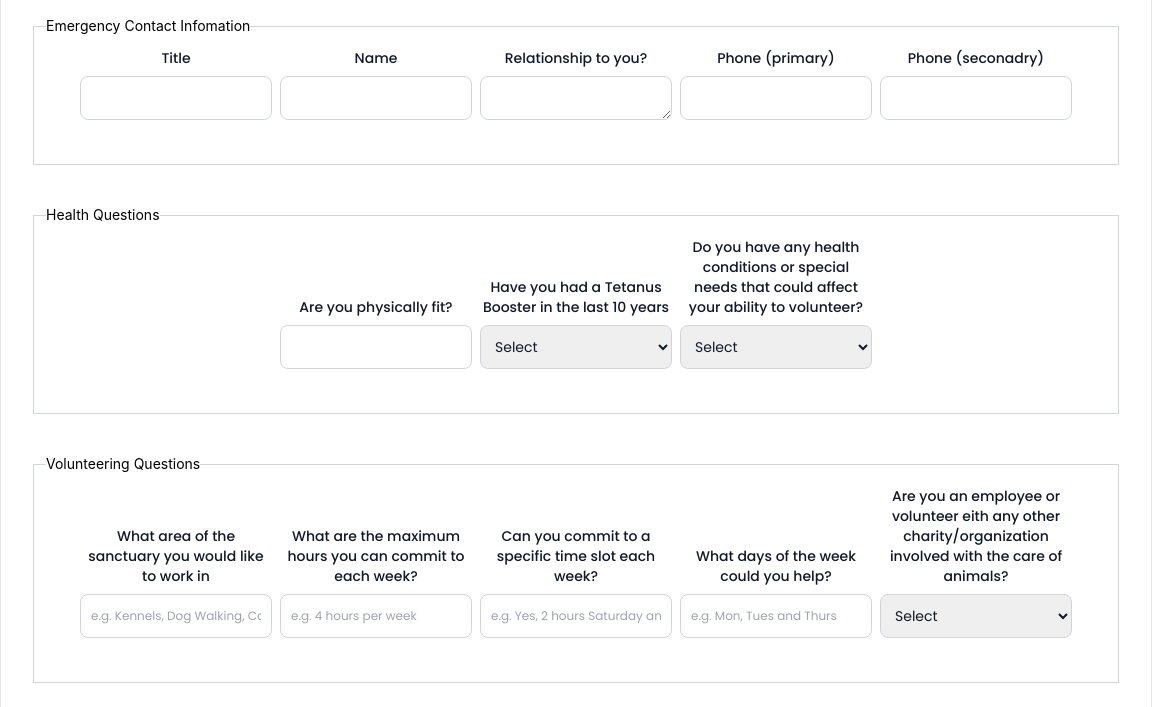
Test case: Volunteer Form › exposes correct fields on selecting specific values
(page scrolled)
Expected: the text "Please briefly state the convictions:" is not shown
^ Select:
Select "Yes" in the 2nd dropdown named "healthInfo.healthConditionSpecialNeeds": {"x": 776, "y": 347} 680,325 -> 872,369
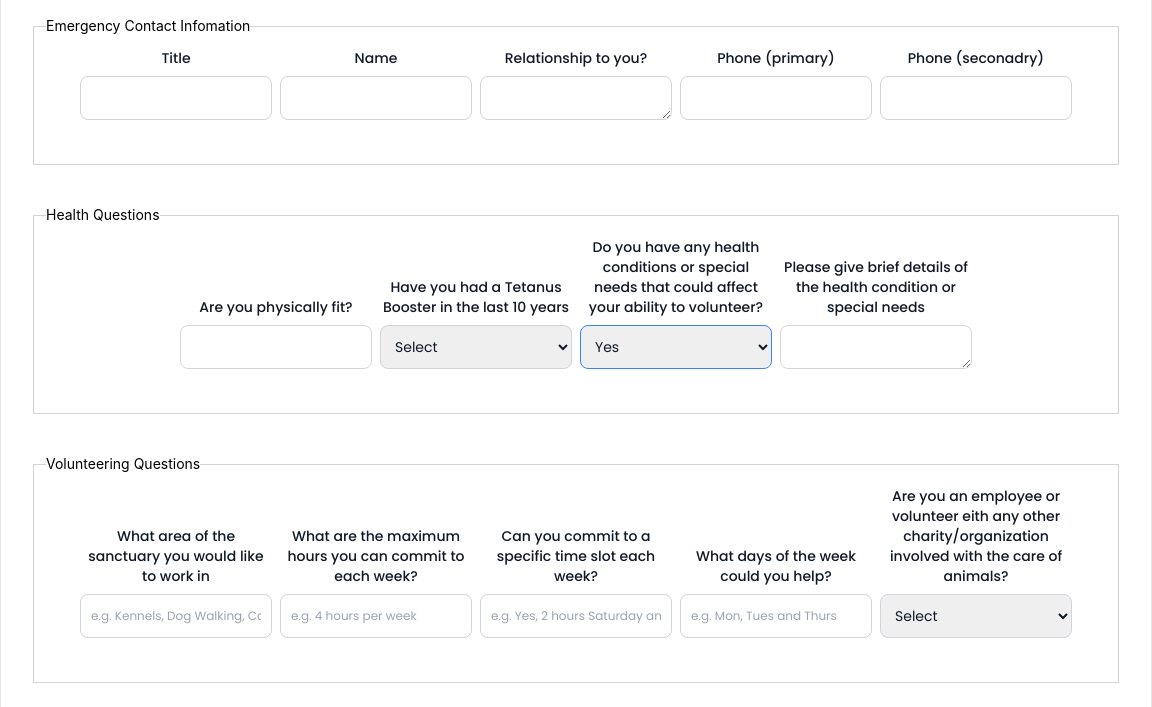
Expected: the text "Please give brief details of the health condition or special needs" is shown, 780,257 -> 972,317
Scroll
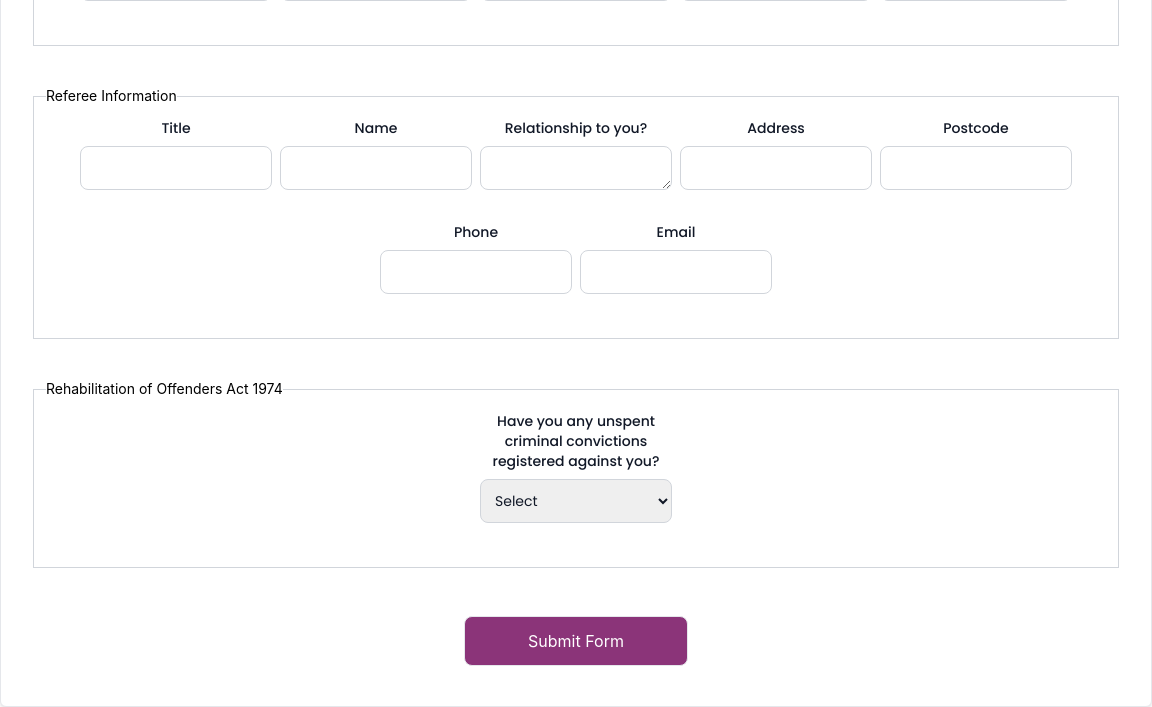
Select "Yes" in the dropdown named "offenderInfo.offender" below "Rehabilitation of Offenders Act 1974": {"x": 576, "y": 501} 480,479 -> 672,523
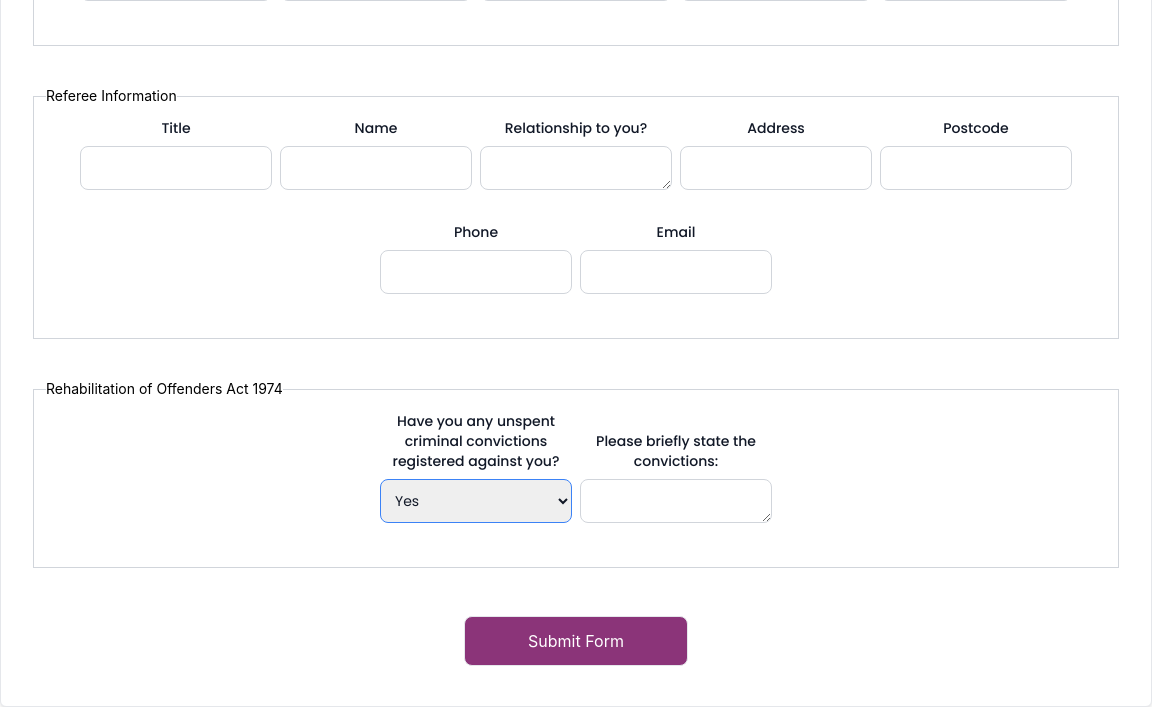
Expected: the text "Please briefly state the convictions:" is shown, 596,431 -> 756,471
